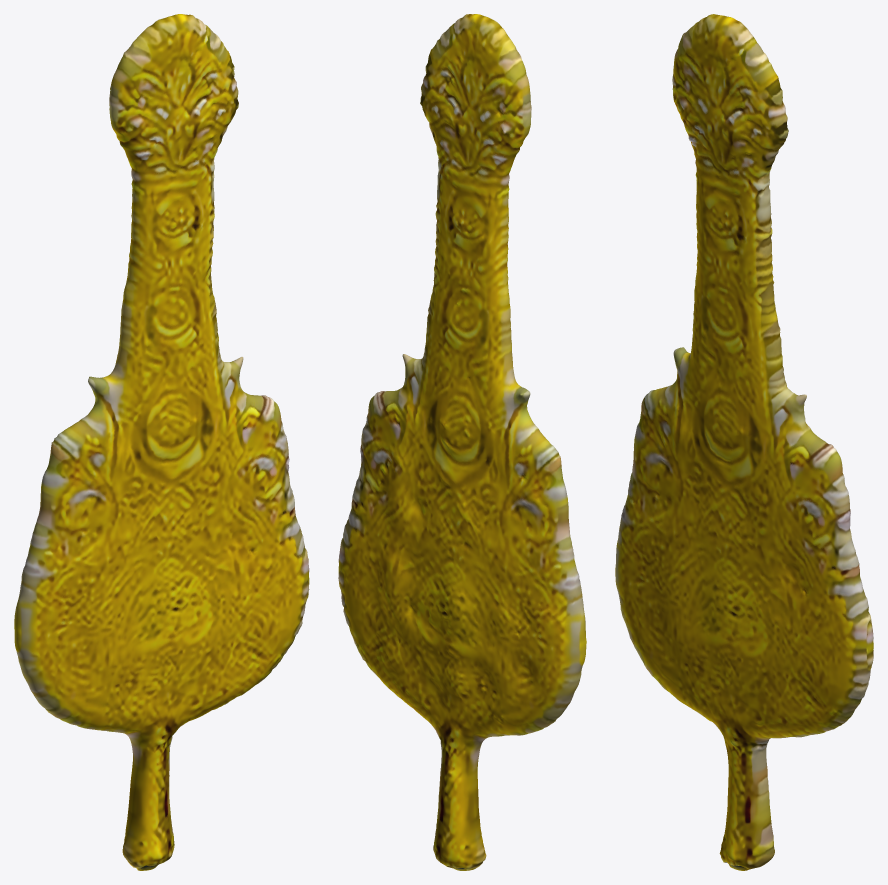
The model's file is kfl-2295.glb.
The picture shows the model from 3 angles, left to right: view 1: azimuth 30°, elevation 25°; view 2: azimuth 150°, elevation 25°; view 3: azimuth 330°, elevation 25°; orthographic projection. The views are drawn at different scales.
Visible parts, largest first — view 1: kfl-2295; view 2: kfl-2295; view 3: kfl-2295.
Part boxes in pixels (x1,y1,x2,y2): kfl-2295: (14, 14, 309, 870); kfl-2295: (338, 14, 586, 870); kfl-2295: (615, 14, 873, 870).
Size of the model in its own units: 0.326 by 0.9906 by 0.0945.
Materials: 1 (1 with a texture image).
